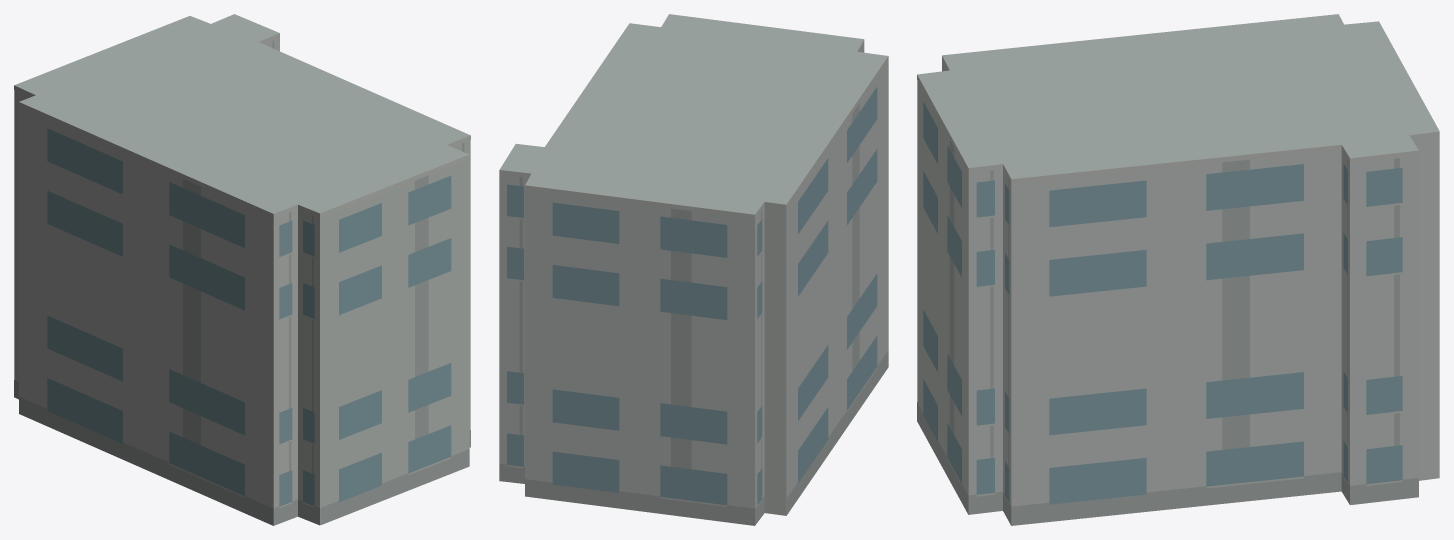
The model's file is survey-upis-32803174.glb.
The picture shows the model from 3 angles, left to right: view 1: azimuth 30°, elevation 25°; view 2: azimuth 150°, elevation 25°; view 3: azimuth 270°, elevation 25°; orthographic projection. The views are drawn at different scales.
Visible parts, largest first — view 1: survey-upis-32803174.tmp; view 2: survey-upis-32803174.tmp; view 3: survey-upis-32803174.tmp.
Boxes of the visible parts, x1,y1,x2,y2 form: survey-upis-32803174.tmp: (14, 14, 470, 525); survey-upis-32803174.tmp: (499, 14, 888, 525); survey-upis-32803174.tmp: (917, 14, 1439, 525).
Size of the model in its own units: 16.46 by 16.1 by 22.01.
